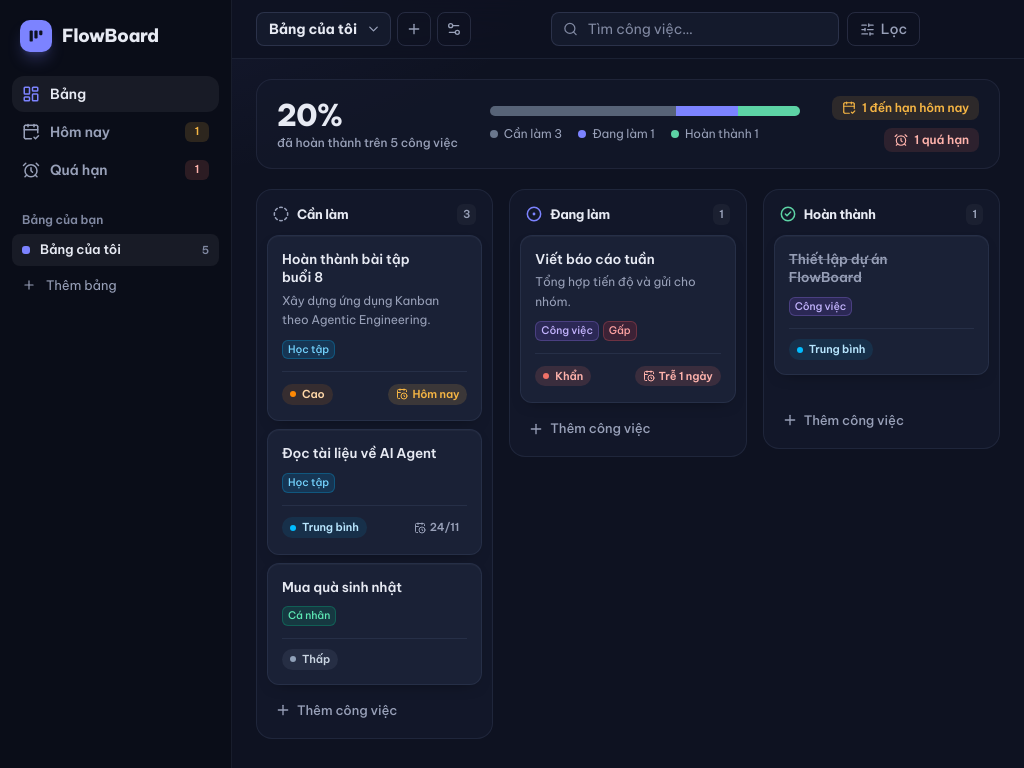
Test case: search and filters › searches without diacritics
The image size is (1024, 768).
Type "bao cao" into the search field named "Tìm kiếm công việc" at (695, 29), box [551,12,839,46]
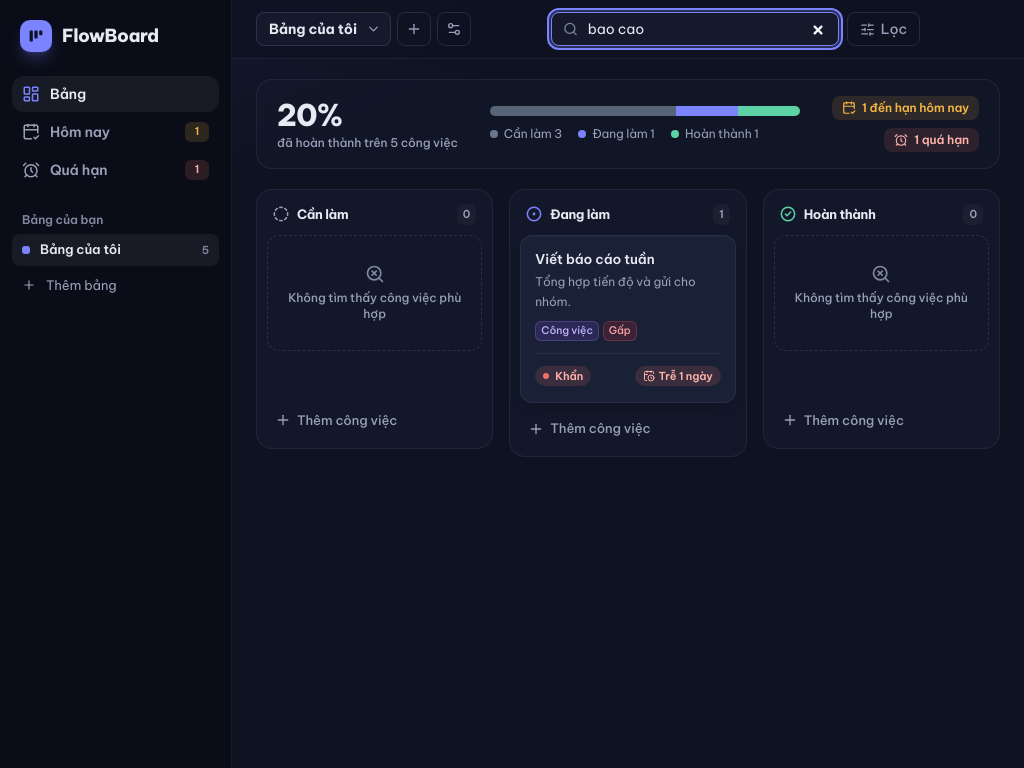
Now the text "Không tìm thấy công việc phù hợp" is shown 2 times, box [280,290,469,322]; [787,290,976,322]
